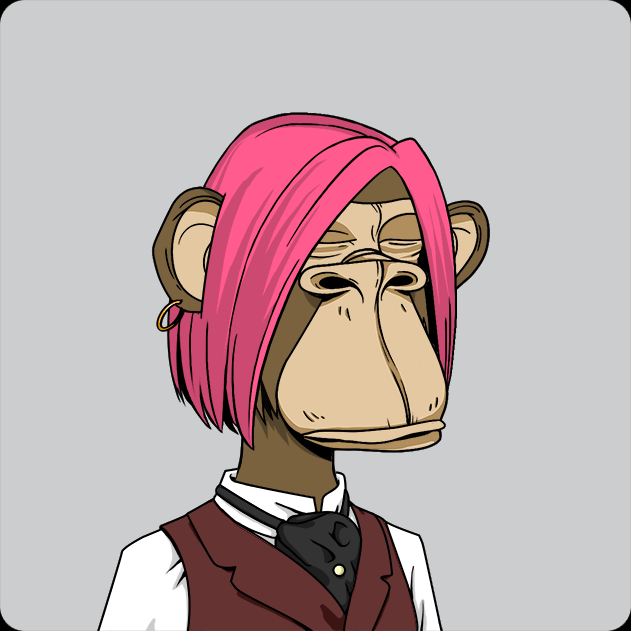Dress: (106, 458, 472, 631)
Eyes: (264, 203, 457, 280)
Head: (164, 106, 465, 445)
Mouth: (265, 344, 489, 453)
